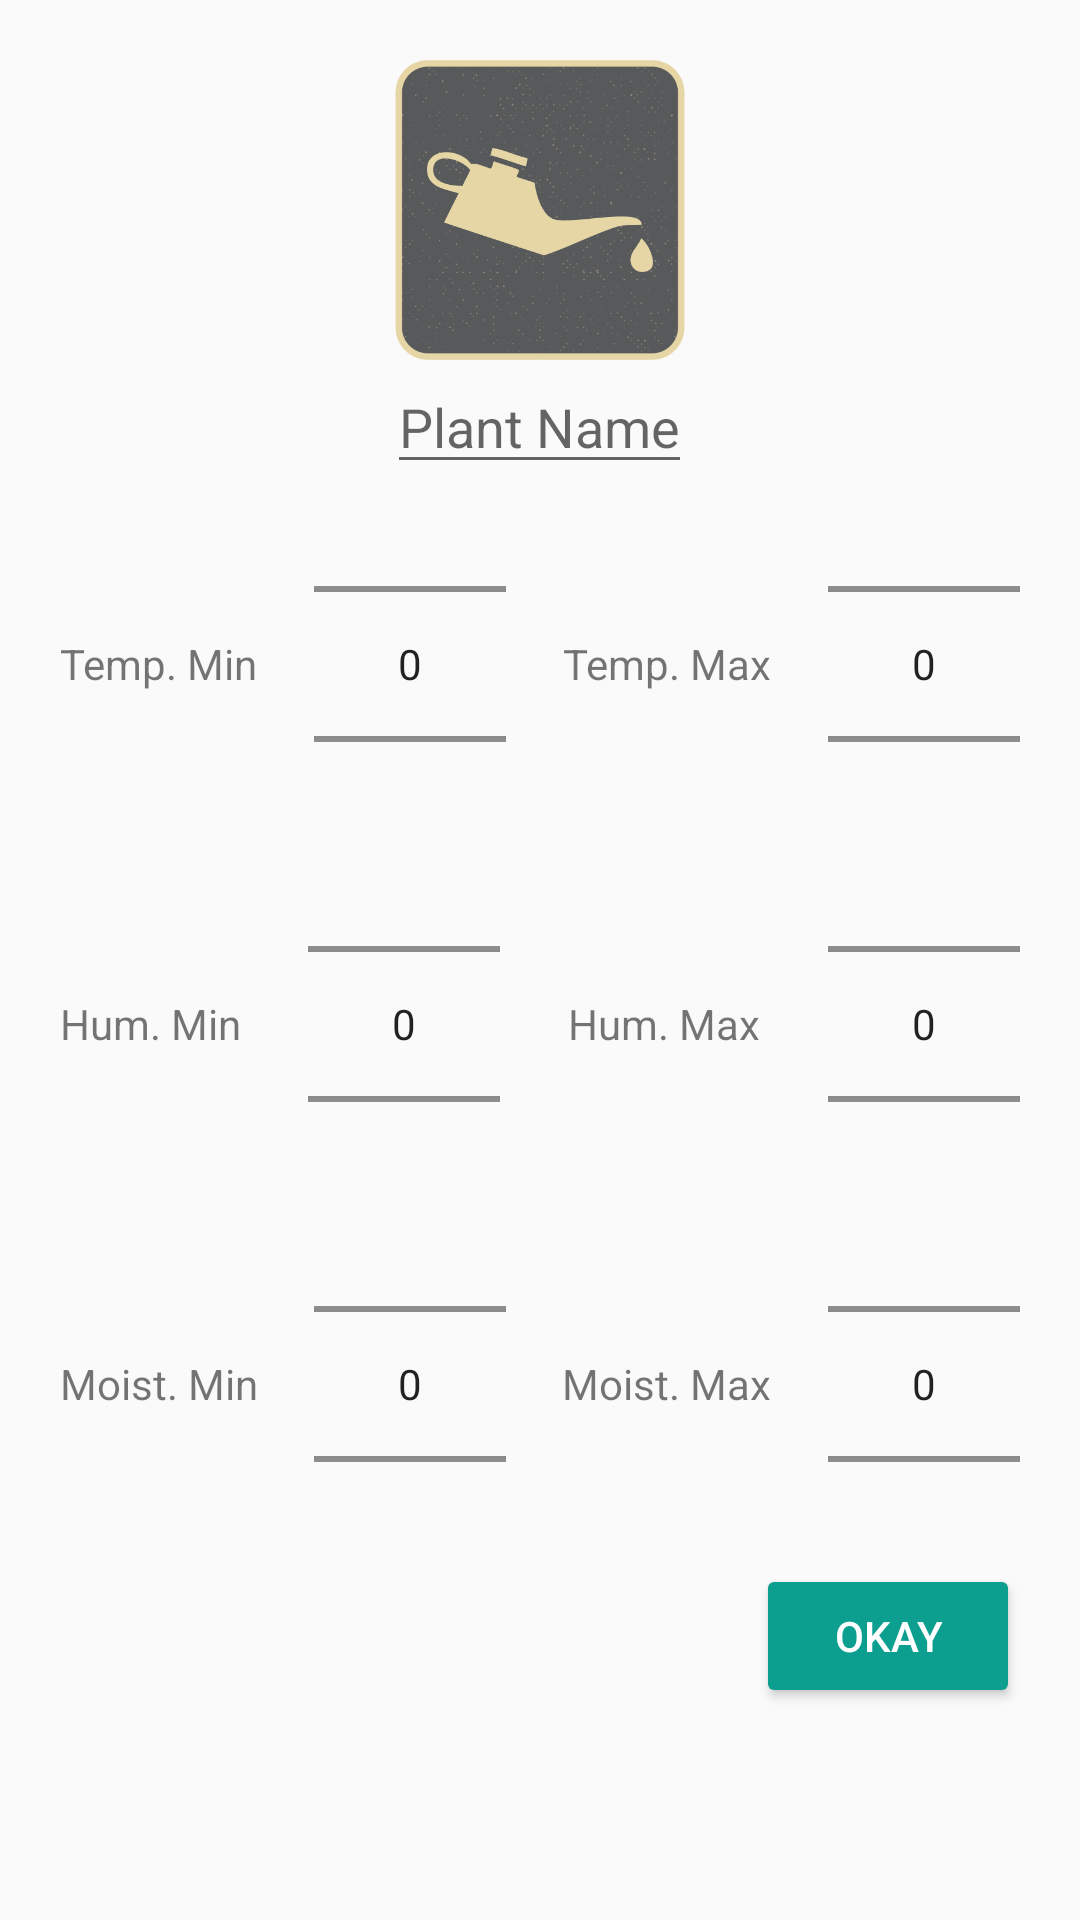

Icons on this 1080*1920 Android screen, each with the point to tap as [x,y]:
water: [540,210]
